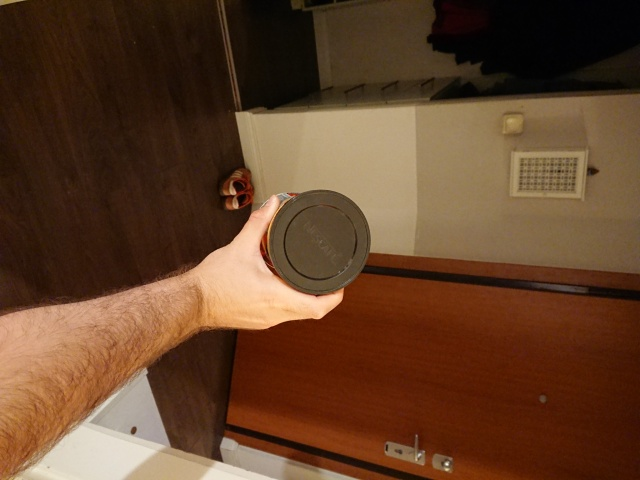Nescafe Classic 225g: (245, 187, 374, 302)
